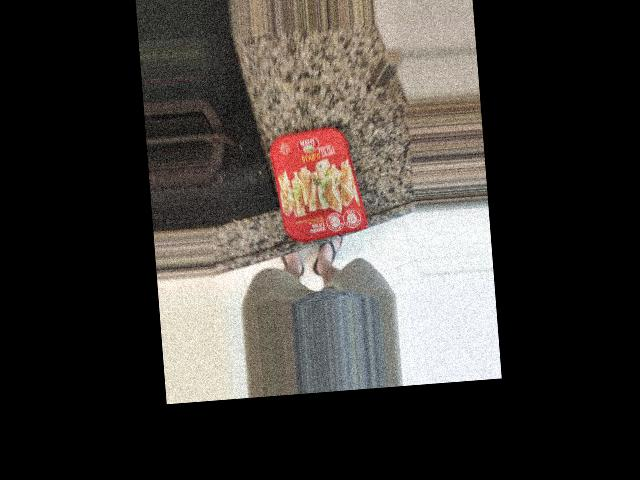cheese: (251, 86, 351, 200)
